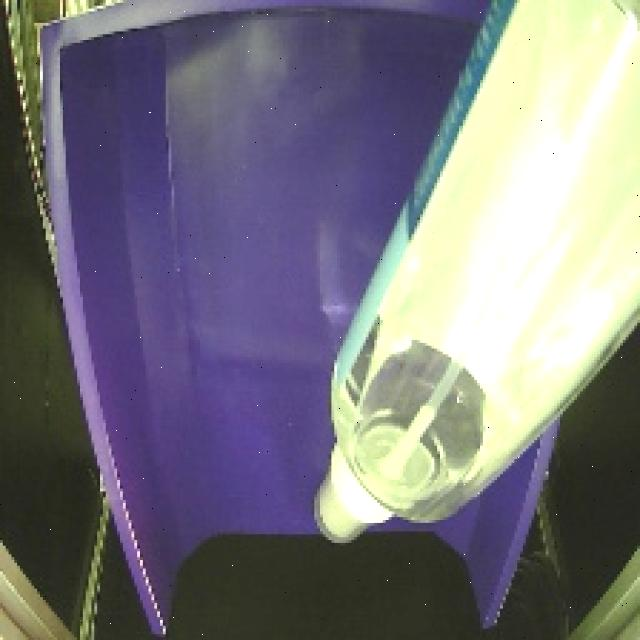plastic: (293, 0, 640, 556)
